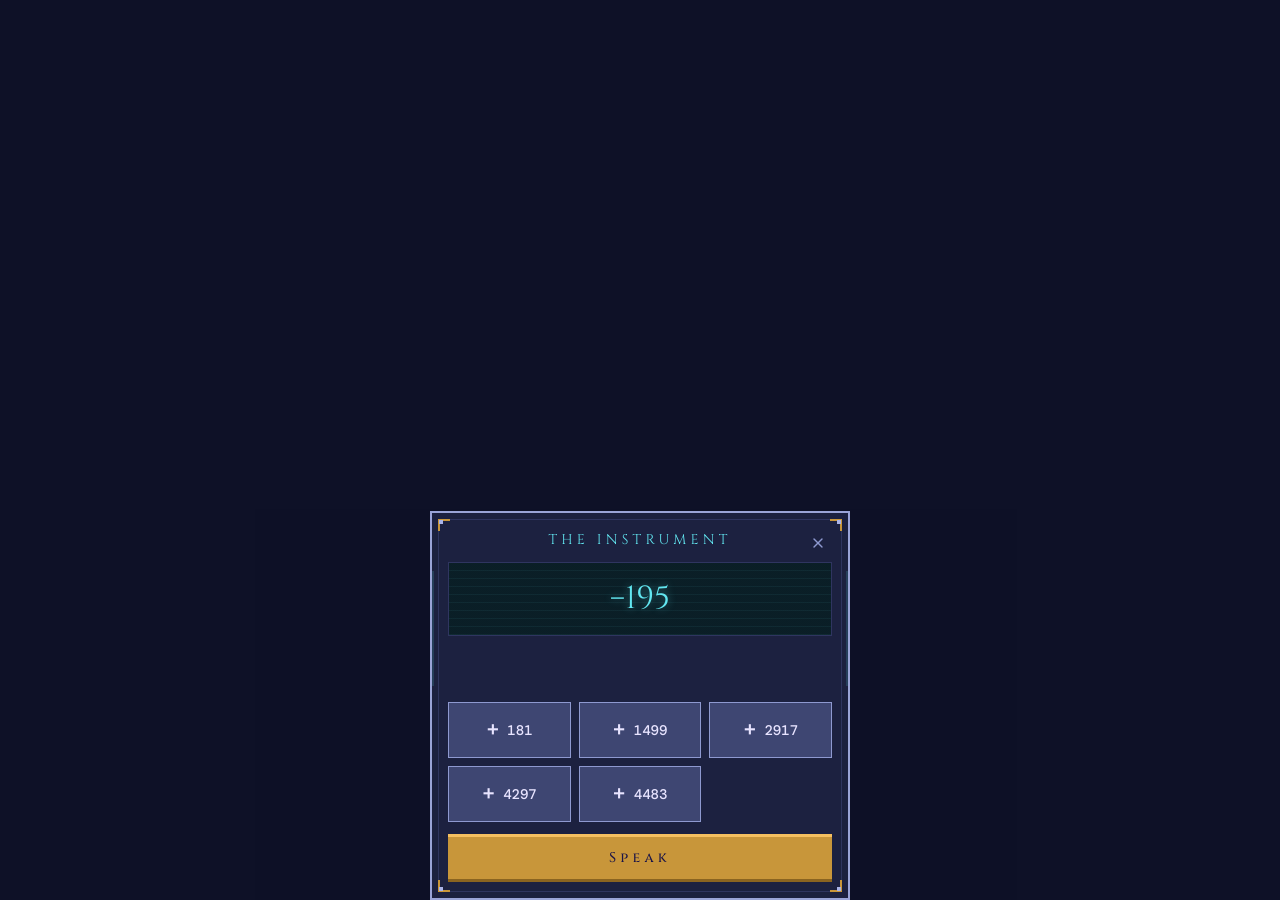
Test: console Præm puzzle › success publishes both persisted refreshes, chimes, shows the receipt then closes
Click the button "Speak" at [640, 858], box x1=448 y1=834 x2=832 y2=882
Wait 4500 ms
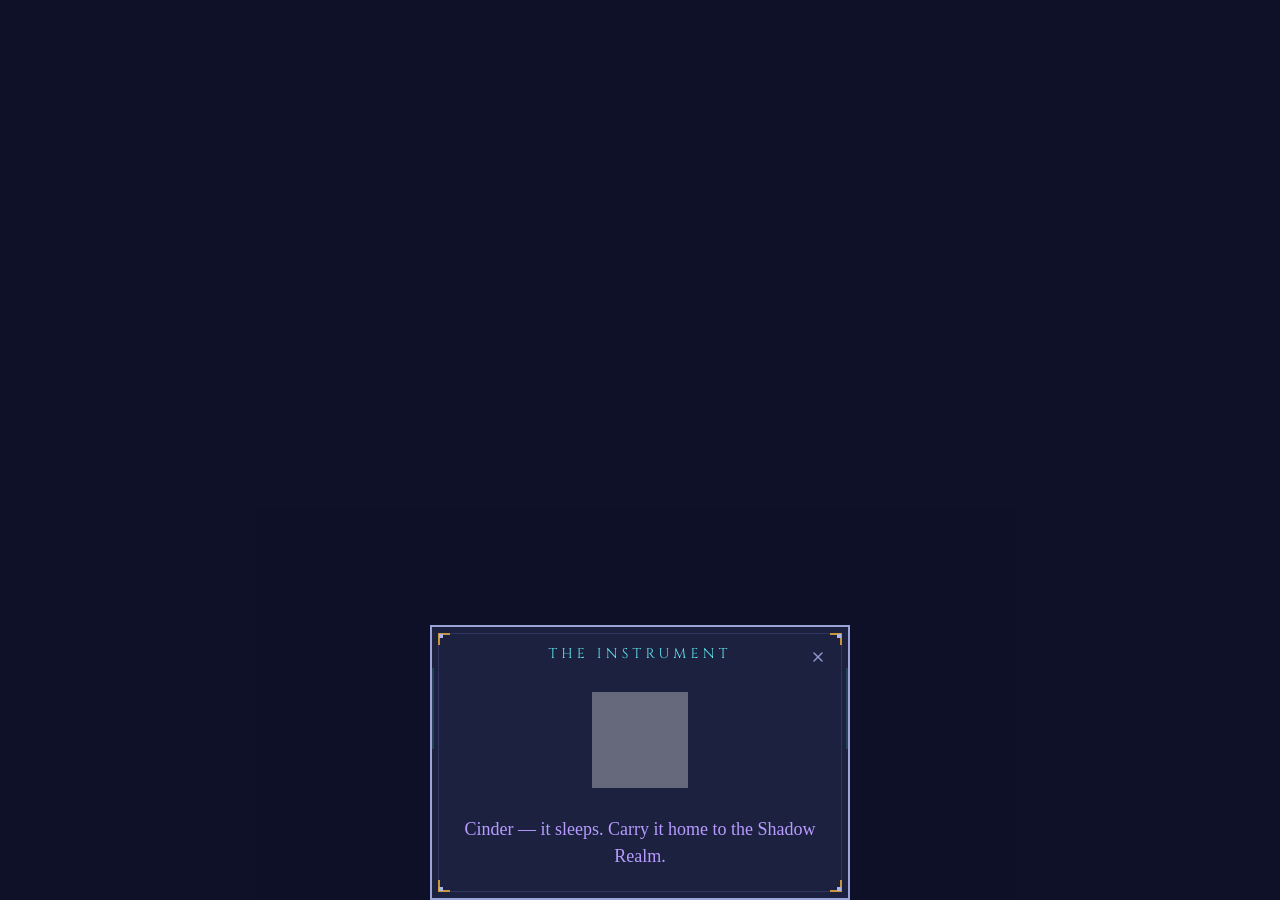
Check: the message reads "Cinder — it sleeps. Carry it home to the Shadow Realm.", box x1=448 y1=676 x2=832 y2=882
